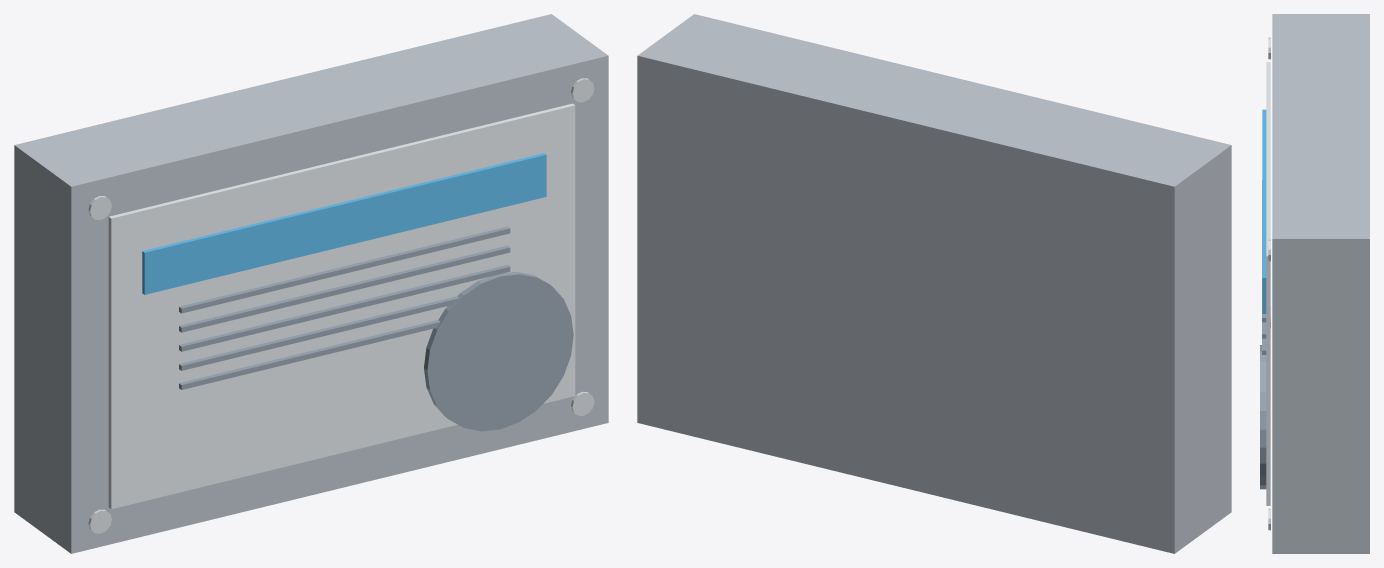
File: hdd.glb
The picture shows the model from 3 angles, left to right: view 1: azimuth 30°, elevation 25°; view 2: azimuth 150°, elevation 25°; view 3: azimuth 270°, elevation 25°; orthographic projection. The views are drawn at different scales.
Visible parts, largest first — view 1: drive_aluminium_1, hdd_label_2, label_band_3, platter_motif_9, label_text_line_5, label_text_line_6, label_text_line_4, label_text_line_7, label_text_line_8; view 2: drive_aluminium_1; view 3: drive_aluminium_1, hdd_label_2, label_band_3, platter_motif_9, label_text_line_4.
Part boxes in pixels (<box>): drive_aluminium_1: <box>14,14,608,553</box>; hdd_label_2: <box>108,103,575,509</box>; label_band_3: <box>142,153,546,294</box>; platter_motif_9: <box>424,271,573,431</box>; label_text_line_5: <box>179,245,510,332</box>; label_text_line_6: <box>179,264,510,351</box>; label_text_line_4: <box>179,226,510,313</box>; label_text_line_7: <box>179,296,459,370</box>; label_text_line_8: <box>179,320,440,389</box>; drive_aluminium_1: <box>637,14,1231,553</box>; drive_aluminium_1: <box>1272,14,1369,553</box>; hdd_label_2: <box>1266,62,1270,505</box>; label_band_3: <box>1262,109,1266,313</box>; platter_motif_9: <box>1260,345,1266,489</box>; label_text_line_4: <box>1262,180,1266,322</box>.
Bounding box in the file's own units: 1.47 × 1.01 × 0.3035.
